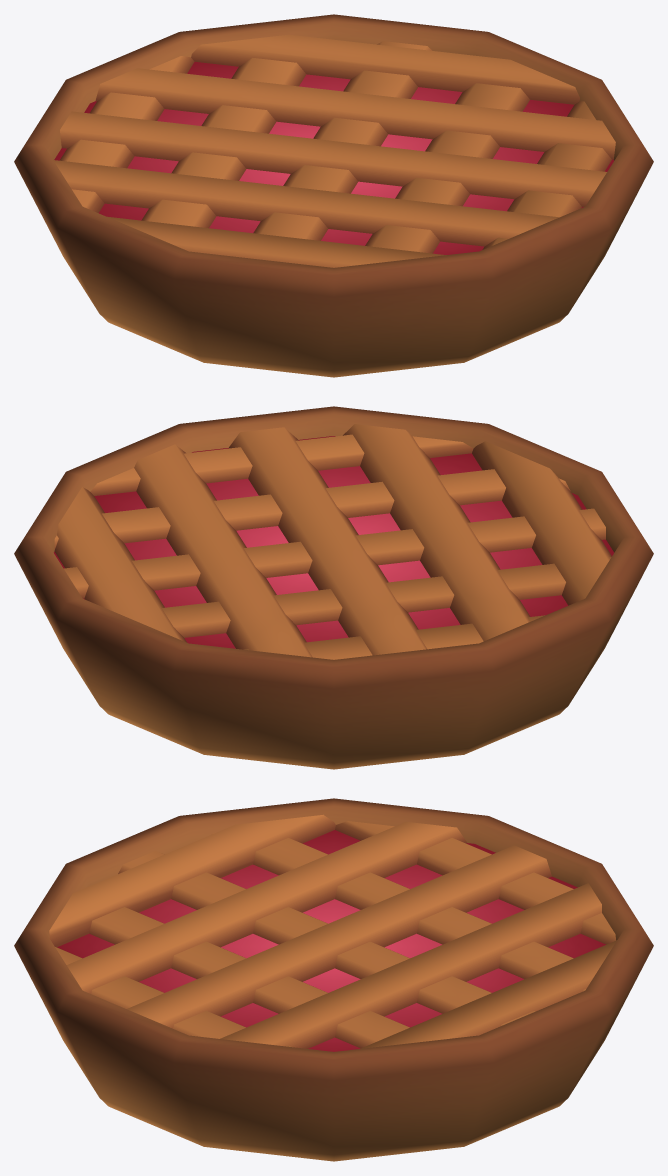
The model's file is m_AmericanPie02.fbx.
3 renders of one model, top to bottom at view 1: azimuth 30°, elevation 25°; view 2: azimuth 150°, elevation 25°; view 3: azimuth 270°, elevation 25°, orthographic.
Parts seen in each view (by area): view 1: m_AmericanPie02; view 2: m_AmericanPie02; view 3: m_AmericanPie02.
Boxes of the visible parts, box(x1,y1,x2,y2) form: m_AmericanPie02: box(14, 14, 653, 377); m_AmericanPie02: box(14, 406, 653, 769); m_AmericanPie02: box(14, 798, 653, 1161).
Bounding box in the file's own units: 28 × 5.91 × 28.
